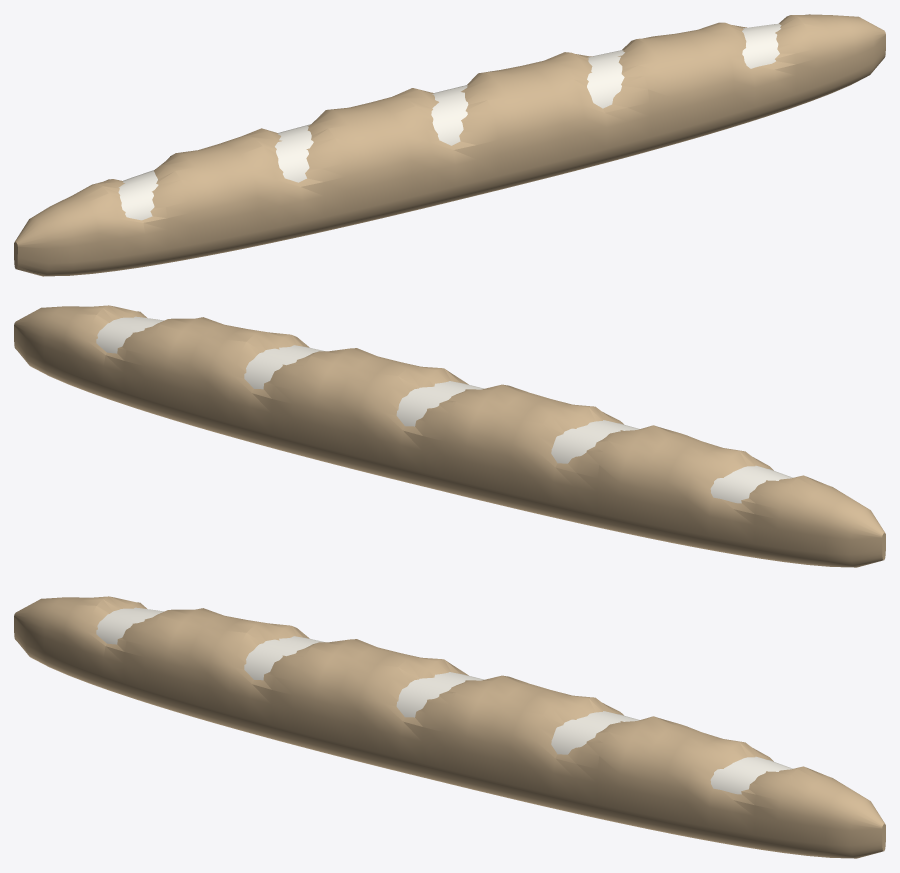
The model's file is fresh-produce-and-groceries-baguette-fb90d36c__24414.glb.
The picture shows the model from 3 angles, top to bottom: view 1: azimuth 30°, elevation 25°; view 2: azimuth 150°, elevation 25°; view 3: azimuth 330°, elevation 25°; orthographic projection.
Parts seen in each view (by area): view 1: baguette; view 2: baguette; view 3: baguette.
Part boxes in pixels (x1=…): baguette: x1=14, y1=14, x2=885, y2=276; baguette: x1=14, y1=305, x2=885, y2=567; baguette: x1=14, y1=596, x2=885, y2=858.
Size of the model in its own units: 0.6 by 0.0657 by 0.066.
